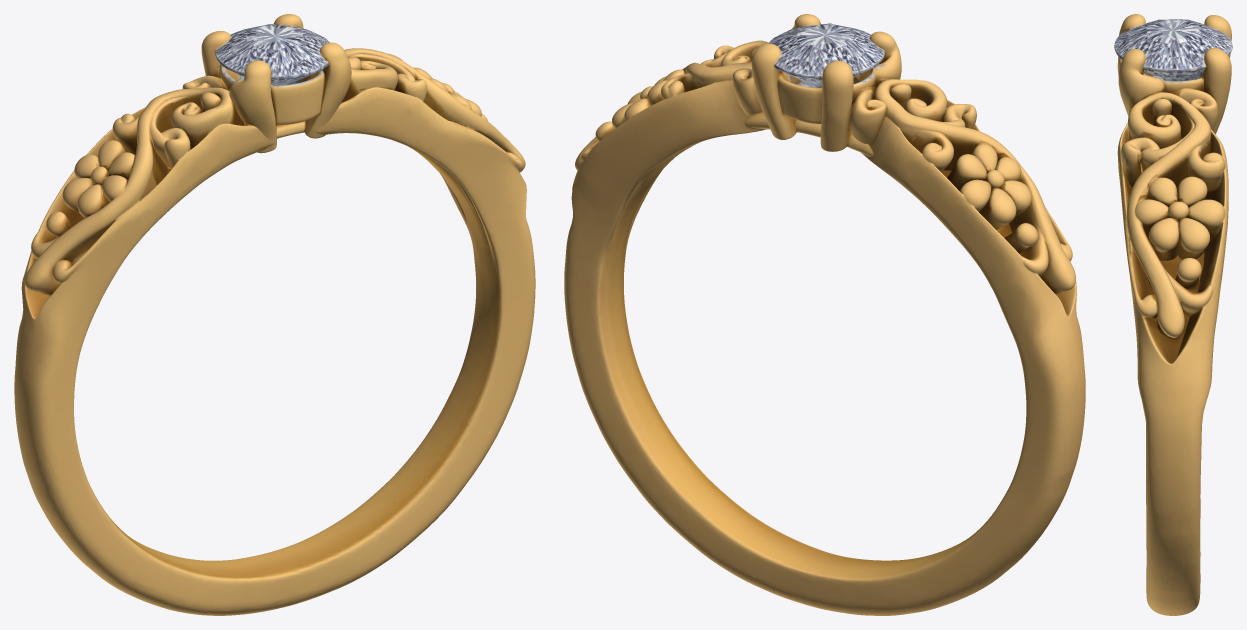
Rendered from solitaire3.glb.
3 renders of one model, left to right at view 1: azimuth 30°, elevation 25°; view 2: azimuth 150°, elevation 25°; view 3: azimuth 270°, elevation 25°, orthographic. The views are drawn at different scales.
Size of the model in its own units: 1.77 by 1.9 by 0.3649.
Materials: 1 (1 with a texture image).
